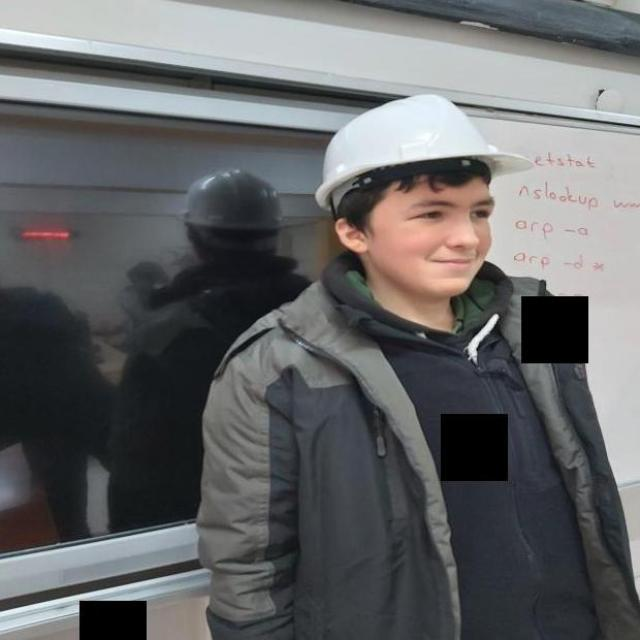white helmet: (307, 94, 552, 223)
